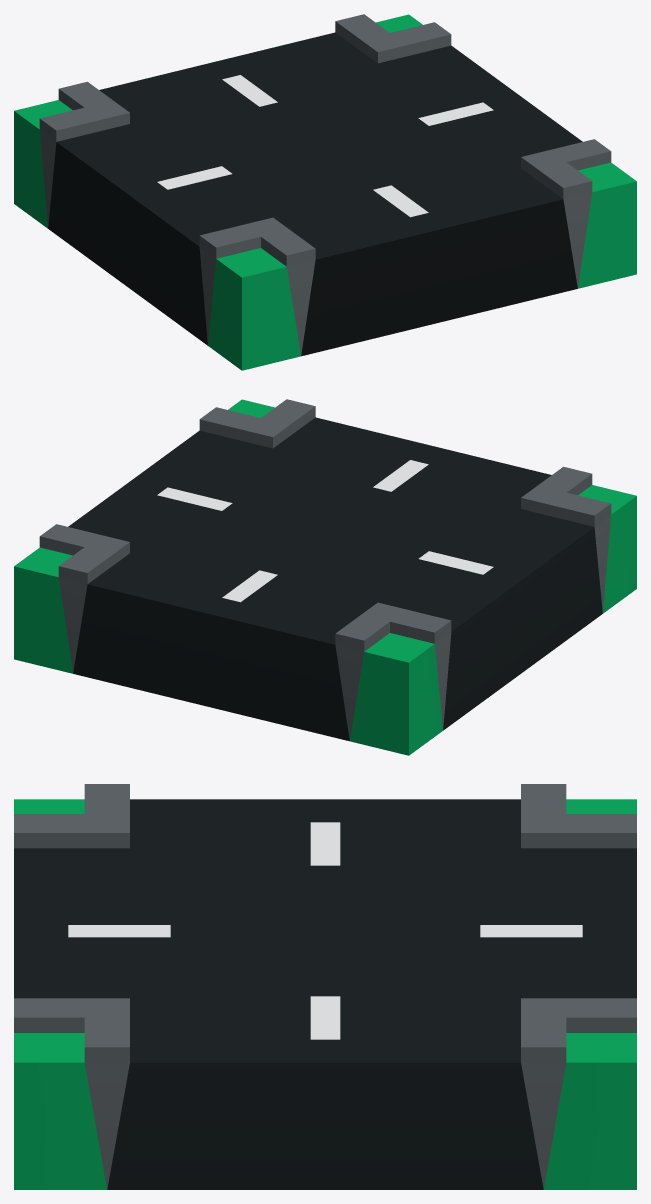
The model's file is CRUCE DE CUATRO.fbx.
3 views of the same model, one above another, from view 1: azimuth 30°, elevation 25°; view 2: azimuth 150°, elevation 25°; view 3: azimuth 270°, elevation 25° (orthographic). The views are drawn at different scales.
Visible parts, largest first — view 1: cuatro.005; view 2: cuatro.005; view 3: cuatro.005.
Boxes of the visible parts, bbox=[...] form: cuatro.005: bbox=[14, 14, 636, 370]; cuatro.005: bbox=[14, 399, 636, 755]; cuatro.005: bbox=[14, 784, 636, 1189].
Size of the model in its own units: 900 by 900 by 227.
1 material, 1 textured.
